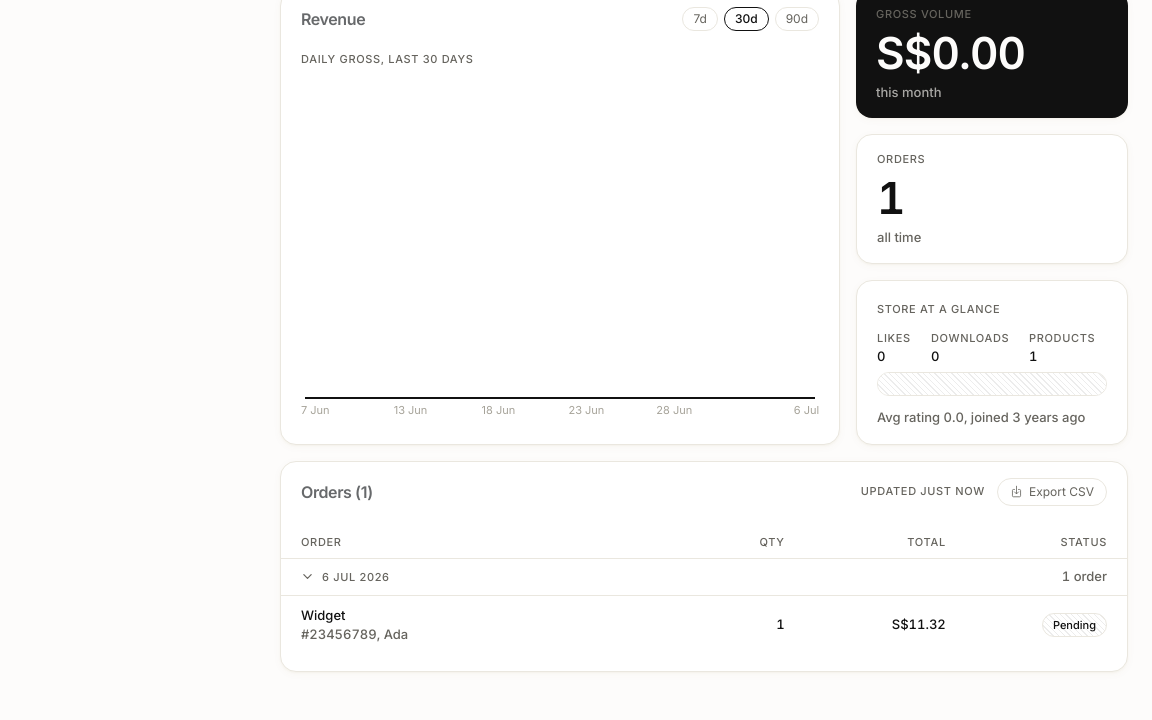
Test case: Creator home › renders an orders ledger row and opens the peek with status buttons
(page scrolled)
expect the text "S$11.32" is shown: met, box [892, 616, 946, 632]
expect the text "Pending" is shown: met, box [1042, 613, 1107, 637]
Note: Row click opens the PeekPanel with per-orderType status buttons.
Click the button "Widget #23456789, Ada 1 S$11.32 Pending".
click(323, 614)  # box [281, 596, 1127, 654]
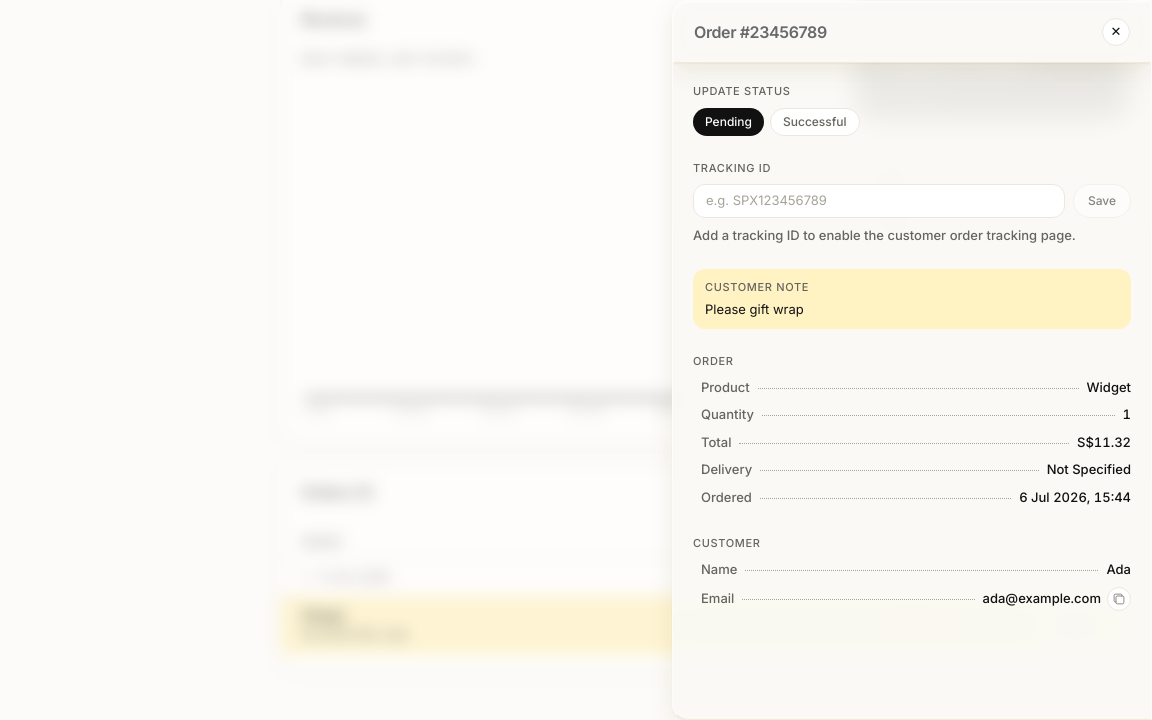
expect the heading "Update status" is shown: met, box [693, 83, 790, 100]
expect the button "Successful" is shown: met, box [770, 108, 860, 136]
expect the heading "Customer note" is shown: met, box [705, 280, 809, 294]
